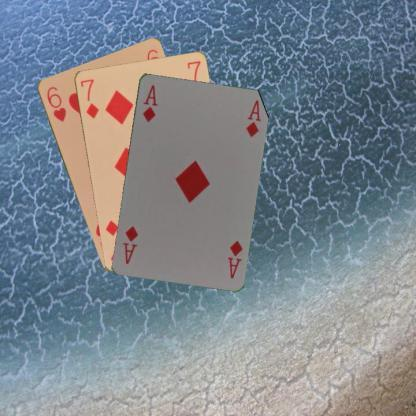6h: (44, 83, 67, 123)
7d: (77, 76, 100, 120)
Ad: (224, 237, 244, 280), (138, 82, 158, 124)
